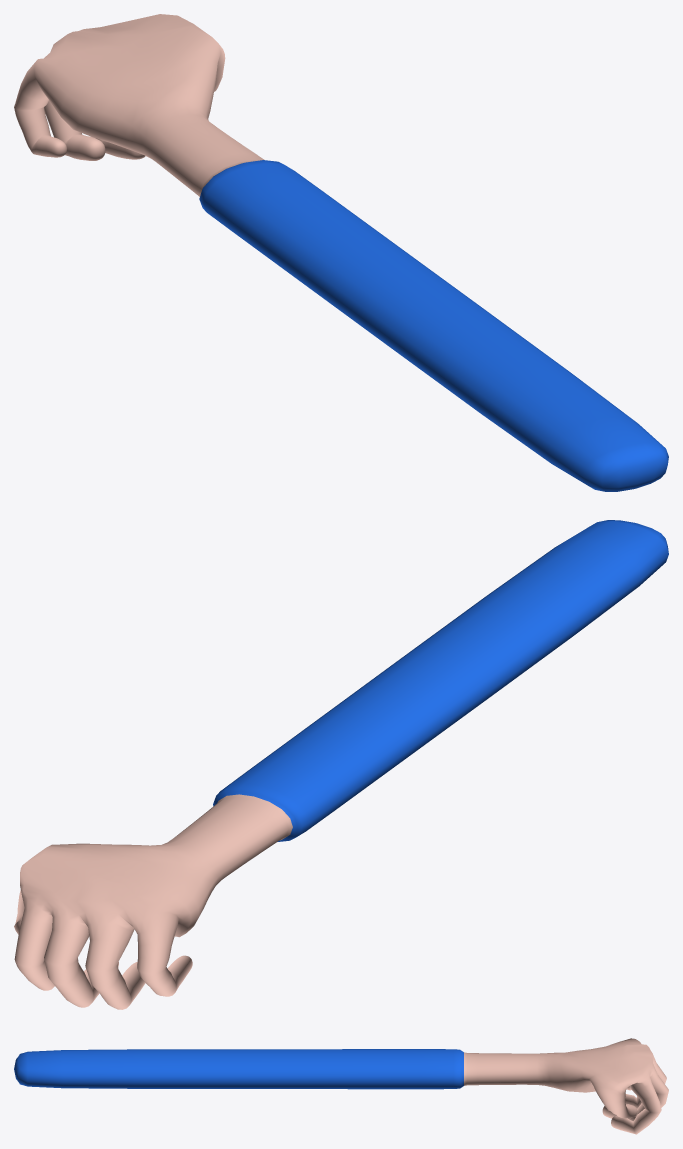
Rendered from hand.fbx.
3 renders of one model, top to bottom at view 1: azimuth 30°, elevation 25°; view 2: azimuth 150°, elevation 25°; view 3: azimuth 270°, elevation 25°, orthographic. The views are drawn at different scales.
Parts seen in each view (by area): view 1: hand; view 2: hand; view 3: hand.
Boxes of the visible parts, x1,y1,x2,y2 form: hand: (14, 14, 668, 491); hand: (14, 520, 668, 1009); hand: (14, 1038, 668, 1134).
Bounding box in the file's own units: 199 × 138 × 1136.
